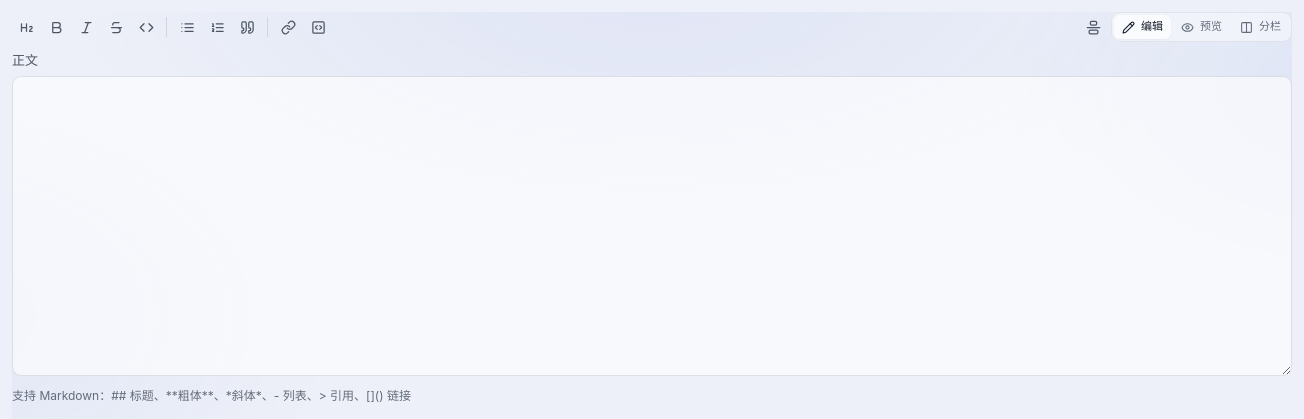
Test case: MarkdownEditor › 空文档里按下列表按钮会先起一个项目符号
Click the button named "有序列表": (217, 27) x1=203 y1=13 x2=231 y2=41
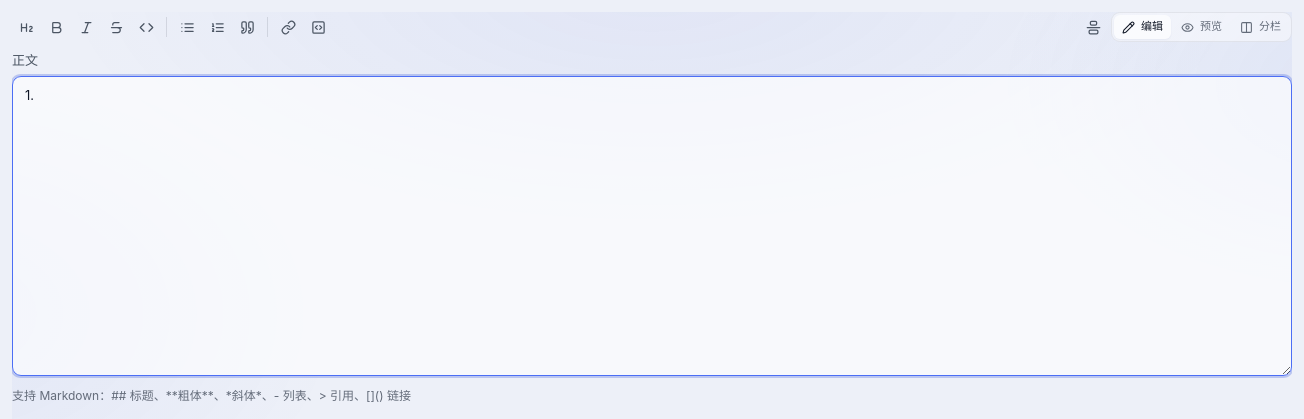
expect the text box labelled "正文" holds "1. ": met
